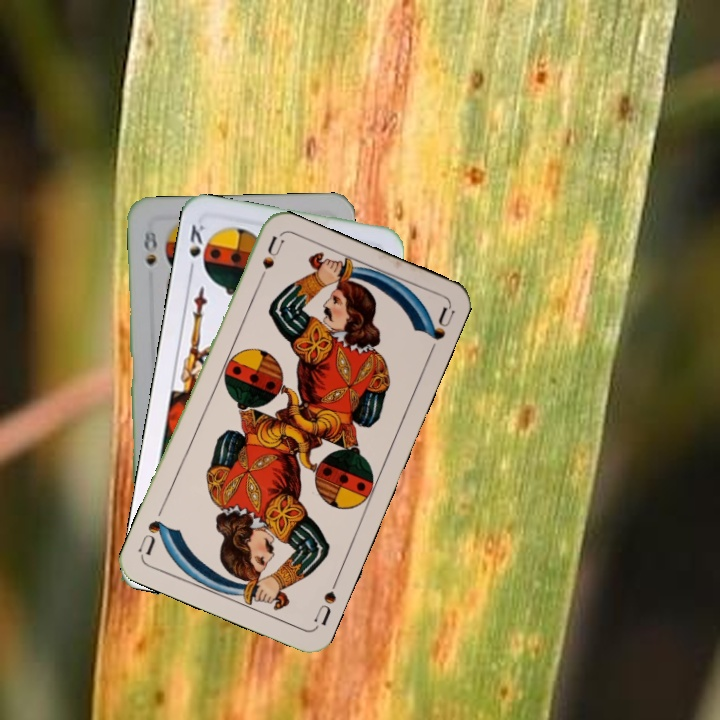S8: (140, 222, 160, 269)
SK: (185, 220, 208, 277)
SU: (252, 232, 287, 291), (310, 573, 342, 630)
